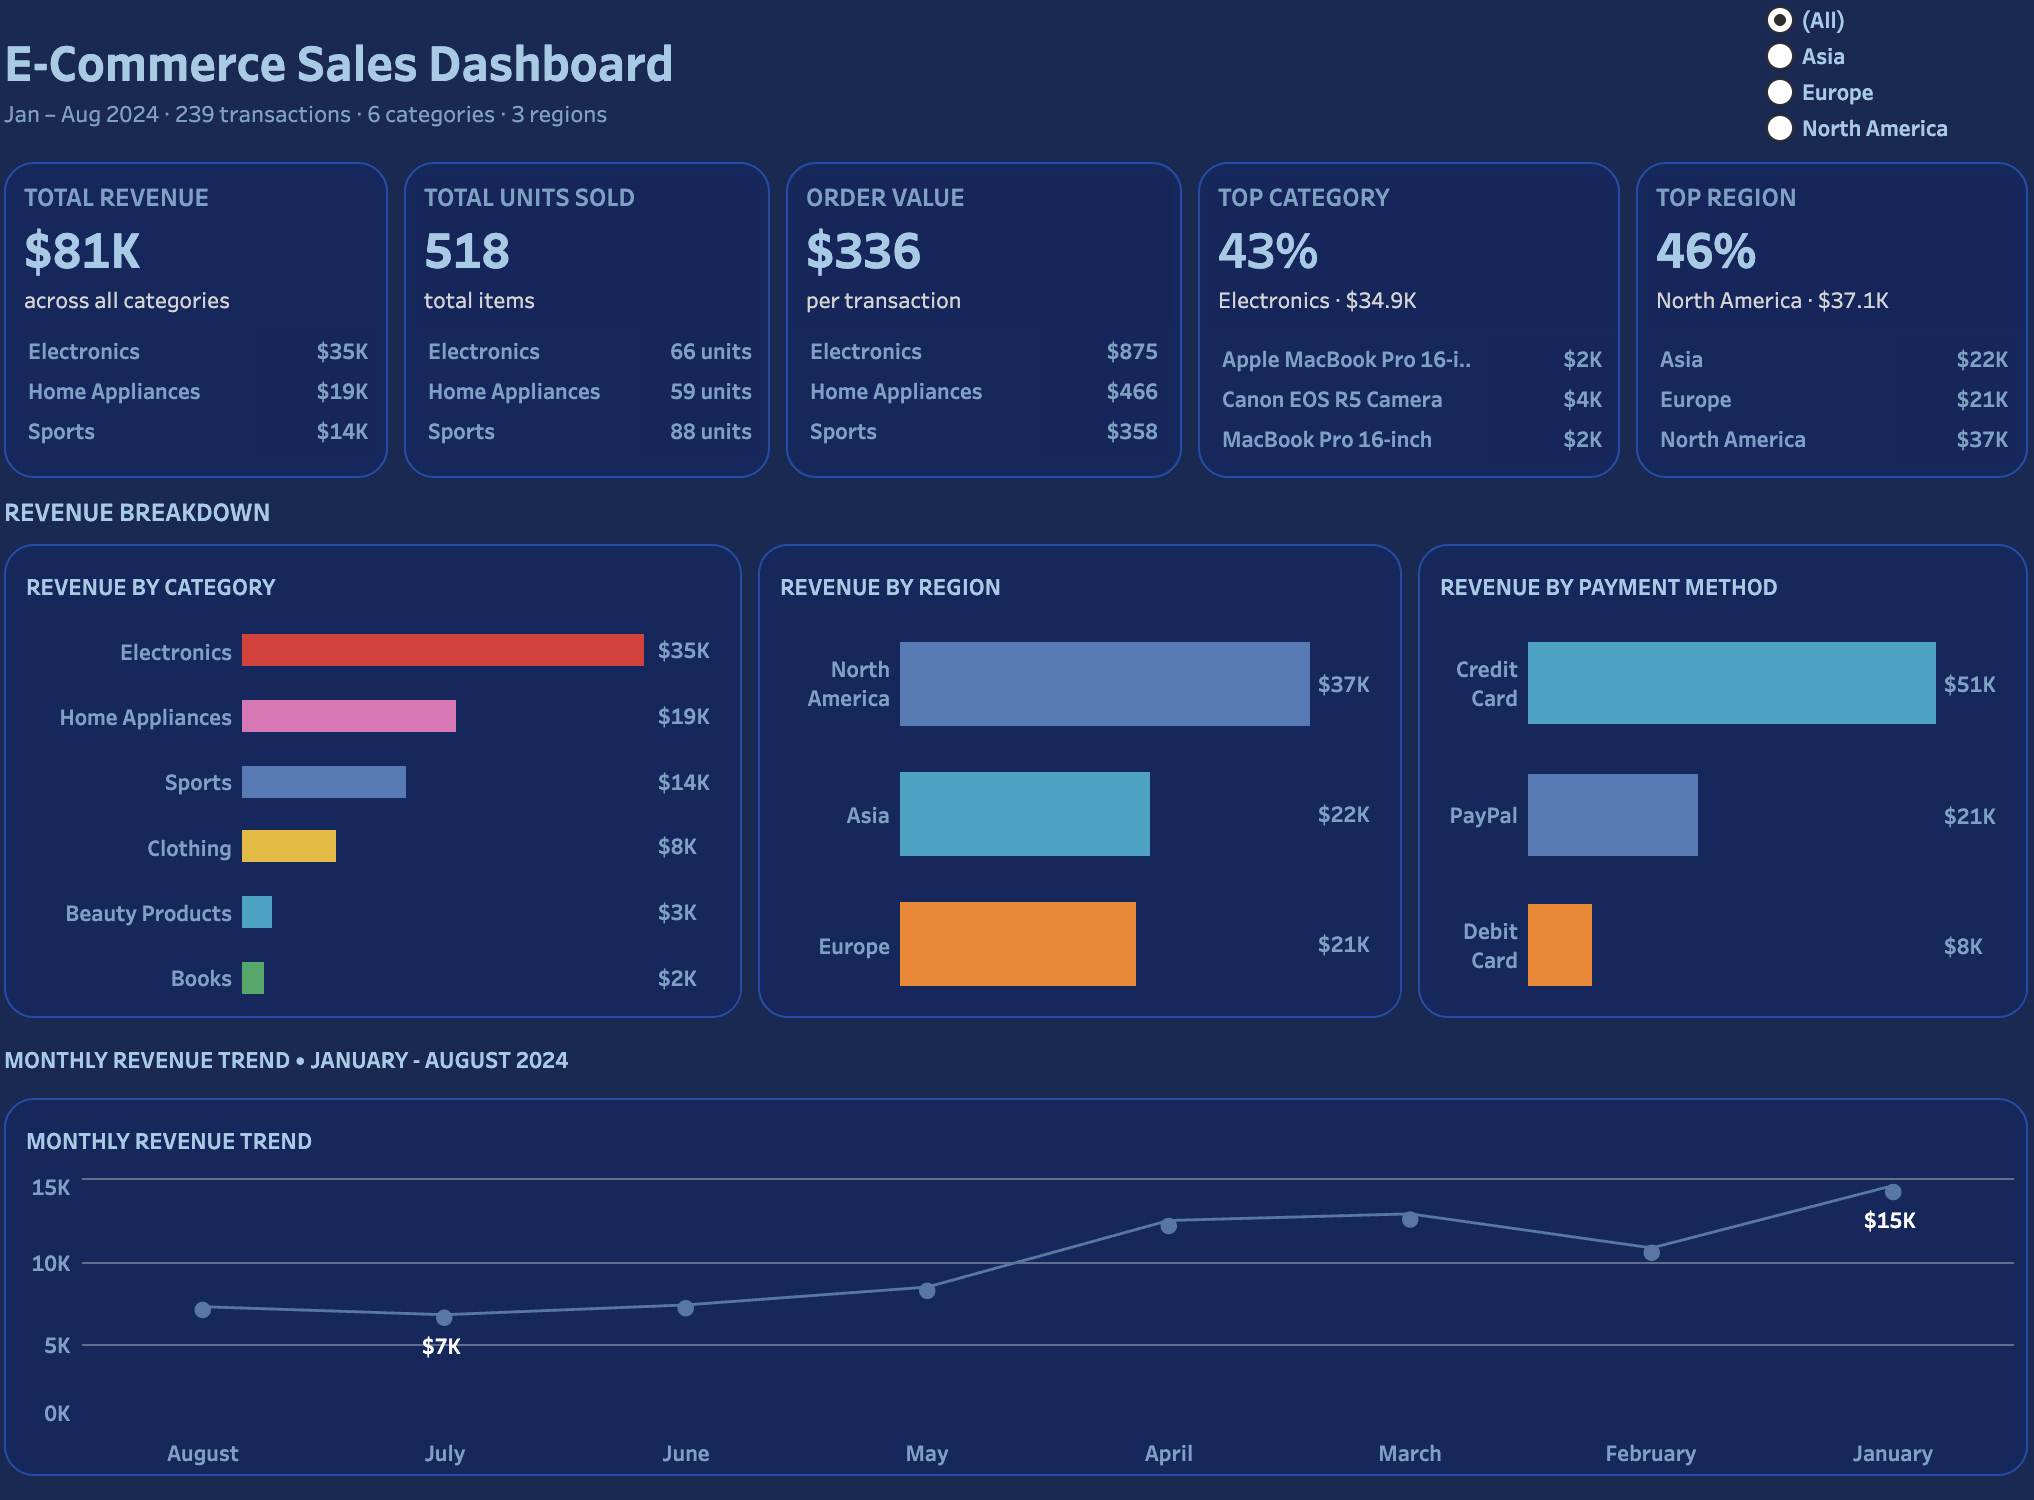

The dashboard page shown, as its layout file describes it:
{"tool":"tableau","page":{"name":"Dashboard","canvas":[1020,1460],"ordinal":0},"visuals":[{"type":"text","box":[4,4,870,84]},{"type":"filter","title":"Revenue by Region","param":"[federated.1o3llnf017sgkc13h25040anaj25].[none:Region:nk]","box":[874,4,142,84]},{"type":"worksheet","title":"KPI Revenue","mark":"Automatic","box":[10,92,187.5,79.5]},{"type":"worksheet","title":"KPI Units","mark":"Automatic","box":[208.5,92,178.5,79.5]},{"type":"worksheet","title":"KPI Avg Order","mark":"Automatic","box":[398,92,193.6,79.4]},{"type":"worksheet","title":"KPI Top Category","mark":"Automatic","box":[602.6,92,205.7,79.5]},{"type":"worksheet","title":"KPI Top Region","mark":"Automatic","box":[819.3,92,191.7,79.4]},{"type":"worksheet","title":"Top3-Revenue","mark":"Automatic","rows":["Product Category"],"box":[10,171.4,187.5,60]},{"type":"worksheet","title":"Top3-OrderValue","mark":"Automatic","rows":["Product Category"],"box":[398,171.4,193.6,60]},{"type":"worksheet","title":"Top3-Region","mark":"Automatic","rows":["Region"],"box":[819.3,171.4,191.7,68]},{"type":"worksheet","title":"Top3-Units","mark":"Automatic","rows":["Product Category"],"box":[208.5,171.5,178.5,60]},{"type":"worksheet","title":"Top3-Top Category","mark":"Automatic","rows":["Product Name"],"box":[602.6,171.5,205.7,68]},{"type":"text","box":[4,245,1012,32]},{"type":"worksheet","title":"Revenue by Category","mark":"Bar","rows":["Product Category"],"cols":["Total Revenue","Calculation_1236300617302017"],"box":[4,277,374.7,240]},{"type":"worksheet","title":"Revenue by Region","mark":"Bar","rows":["Region"],"cols":["Total Revenue","Calculation_1236300617785347"],"box":[378.7,277,326.7,240]},{"type":"worksheet","title":"Revenue by Payment Method","mark":"Bar","rows":["Payment Method"],"cols":["Total Revenue","Calculation_1236300618846213"],"box":[705.3,277,310.7,240]},{"type":"text","box":[4,517,1012,32]},{"type":"worksheet","title":"Monthly Revenue Trend","mark":"Line","rows":["Total Revenue","Total Revenue"],"cols":["Calculation_1081475587559424"],"box":[4,549,1012,196]},{"type":"text","box":[4,745,1012,32]},{"type":"worksheet","title":"Top 10 Products by Revenue","mark":"Bar","rows":["Product Name"],"cols":["Total Revenue","Calculation_1236300619620359"],"box":[4,777,536,312]},{"type":"worksheet","title":"Units Sold by Category","mark":"Bar","rows":["Product Category"],"cols":["Units Sold","Calculation_1236300621803529"],"box":[540,777,476,312]},{"type":"text","box":[4,1089,1012,28]},{"type":"worksheet","title":"Price vs Revenue Scatter","mark":"Automatic","rows":["Total Revenue"],"cols":["Unit Price"],"box":[9,1122,526.1,329]},{"type":"worksheet","title":"Region Category Heatmap","mark":"Automatic","rows":["Product Category"],"cols":["Region"],"box":[545.1,1122,465.9,329]}]}

Visuals, with their boxes on the page's 1020x1460 design canvas (x1, y1, x2, y2). These are canvas units, not pixel positions in the 2034x1500 screenshot, which may show the page scaled, cropped or inside an application window:
text: (left=4, top=4, right=874, bottom=88)
"Revenue by Region" filter: (left=874, top=4, right=1016, bottom=88)
"KPI Revenue" worksheet: (left=10, top=92, right=198, bottom=172)
"KPI Units" worksheet: (left=208, top=92, right=387, bottom=172)
"KPI Avg Order" worksheet: (left=398, top=92, right=592, bottom=171)
"KPI Top Category" worksheet: (left=603, top=92, right=808, bottom=172)
"KPI Top Region" worksheet: (left=819, top=92, right=1011, bottom=171)
"Top3-Revenue" worksheet: (left=10, top=171, right=198, bottom=231)
"Top3-OrderValue" worksheet: (left=398, top=171, right=592, bottom=231)
"Top3-Region" worksheet: (left=819, top=171, right=1011, bottom=239)
"Top3-Units" worksheet: (left=208, top=172, right=387, bottom=232)
"Top3-Top Category" worksheet: (left=603, top=172, right=808, bottom=240)
text: (left=4, top=245, right=1016, bottom=277)
"Revenue by Category" worksheet (Bar marks): (left=4, top=277, right=379, bottom=517)
"Revenue by Region" worksheet (Bar marks): (left=379, top=277, right=705, bottom=517)
"Revenue by Payment Method" worksheet (Bar marks): (left=705, top=277, right=1016, bottom=517)
text: (left=4, top=517, right=1016, bottom=549)
"Monthly Revenue Trend" worksheet (Line marks): (left=4, top=549, right=1016, bottom=745)
text: (left=4, top=745, right=1016, bottom=777)
"Top 10 Products by Revenue" worksheet (Bar marks): (left=4, top=777, right=540, bottom=1089)
"Units Sold by Category" worksheet (Bar marks): (left=540, top=777, right=1016, bottom=1089)
text: (left=4, top=1089, right=1016, bottom=1117)
"Price vs Revenue Scatter" worksheet: (left=9, top=1122, right=535, bottom=1451)
"Region Category Heatmap" worksheet: (left=545, top=1122, right=1011, bottom=1451)
